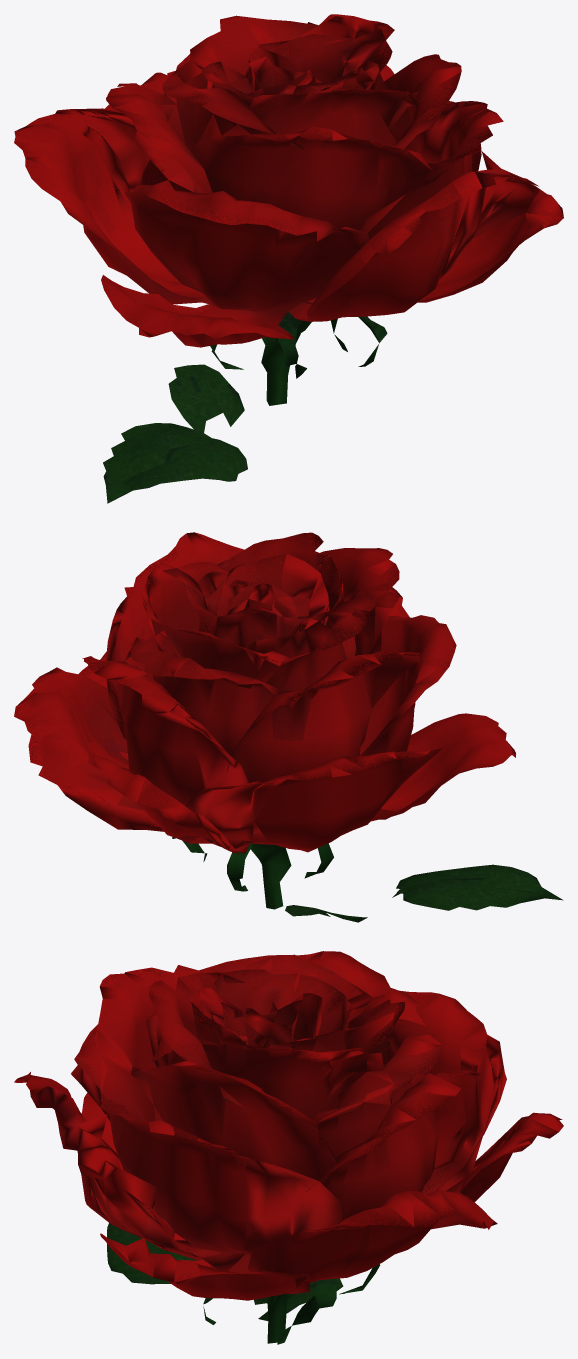
3 views of the same model, one above another, from view 1: azimuth 30°, elevation 25°; view 2: azimuth 150°, elevation 25°; view 3: azimuth 270°, elevation 25° (orthographic). The views are drawn at different scales.
Parts seen in each view (by area): view 1: 6281bf37; view 2: 6281bf37; view 3: 6281bf37.
Boxes of the visible parts, bbox=[...] form: 6281bf37: bbox=[14, 14, 563, 503]; 6281bf37: bbox=[14, 532, 563, 922]; 6281bf37: bbox=[14, 951, 563, 1344].
Bounding box in the file's own units: 0.0853 × 0.061 × 0.0825.
Materials: 3 (3 with a texture image).
